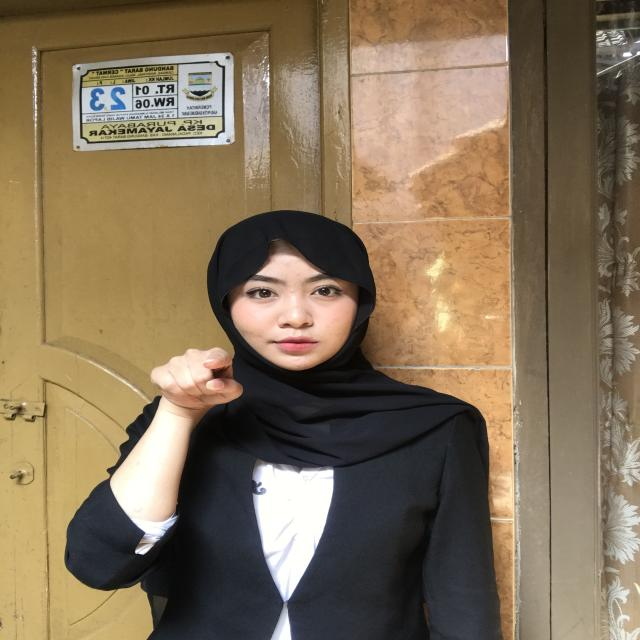kamu: (99, 333, 268, 422)
